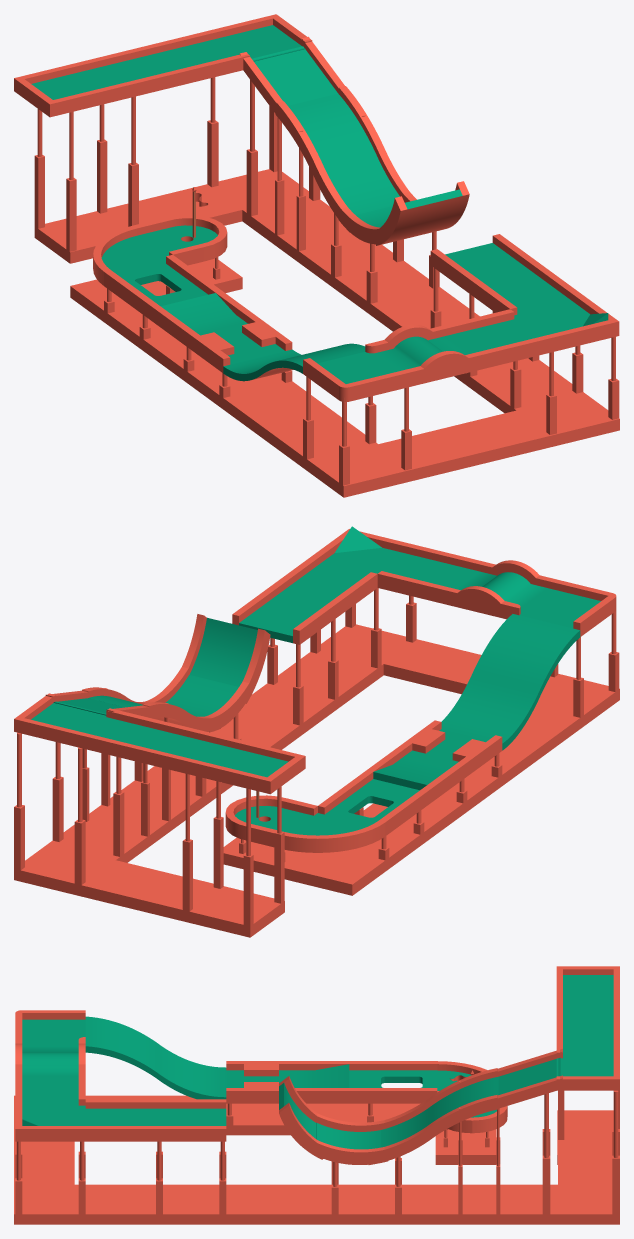
Rendered from Level8.fbx.
The picture shows the model from 3 angles, top to bottom: view 1: azimuth 30°, elevation 25°; view 2: azimuth 150°, elevation 25°; view 3: azimuth 270°, elevation 25°; orthographic projection. The views are drawn at different scales.
Parts seen in each view (by area): view 1: open_block (×23), straight (×5), detail_supports (×7), slope_smoothC_long, valley (×2), slope_straightD, straight_bump, corner_square, end, corner_hill, straight_narrowSquare, straight_slope (+5 smaller); view 2: open_block (×22), straight (×5), detail_supports (×7), slope_center_smoothD_long, valley (×2), straight_bump, end, corner_square, straight_narrowSquare, straight_slope, corner_hill, straight_hole (+5 smaller); view 3: open_block (×18), straight (×5), detail_supports (×6), slope_center_smoothD_long, slope_smoothC_long, valley (×2), straight_slope, slope_straightD, straight_hole, corner_hill, straight_narrowSquare, corner_square (+5 smaller).
Boxes of the visible parts, x1=… form: open_block (×23): x1=34, y1=169, x2=619, y2=497; straight (×5): x1=76, y1=30, x2=578, y2=369; detail_supports (×7): x1=34, y1=77, x2=619, y2=496; slope_smoothC_long: x1=275, y1=86, x2=409, y2=232; valley (×2): x1=338, y1=181, x2=469, y2=245; slope_straightD: x1=239, y1=36, x2=344, y2=113; straight_bump: x1=372, y1=324, x2=480, y2=386; corner_square: x1=303, y1=343, x2=411, y2=401; end: x1=14, y1=61, x2=118, y2=117; corner_hill: x1=514, y1=292, x2=619, y2=352; straight_narrowSquare: x1=183, y1=313, x2=292, y2=372; straight_slope: x1=143, y1=284, x2=251, y2=343; open_block (×22): x1=14, y1=624, x2=619, y2=937; straight (×5): x1=74, y1=545, x2=483, y2=777; detail_supports (×7): x1=14, y1=588, x2=619, y2=937; slope_center_smoothD_long: x1=441, y1=614, x2=580, y2=750; valley (×2): x1=145, y1=614, x2=270, y2=732; straight_bump: x1=445, y1=560, x2=551, y2=619; end: x1=203, y1=739, x2=305, y2=794; corner_square: x1=512, y1=578, x2=616, y2=636; straight_narrowSquare: x1=396, y1=720, x2=502, y2=778; straight_slope: x1=357, y1=749, x2=463, y2=807; corner_hill: x1=310, y1=526, x2=416, y2=577; straight_hole: x1=318, y1=777, x2=424, y2=835; open_block (×18): x1=14, y1=1103, x2=619, y2=1224; straight (×5): x1=15, y1=993, x2=619, y2=1141; detail_supports (×6): x1=15, y1=1081, x2=619, y2=1224; slope_center_smoothD_long: x1=85, y1=1016, x2=226, y2=1099; slope_smoothC_long: x1=366, y1=1068, x2=499, y2=1164; valley (×2): x1=279, y1=1076, x2=387, y2=1164; straight_slope: x1=296, y1=1061, x2=366, y2=1103; slope_straightD: x1=473, y1=1048, x2=562, y2=1116; straight_hole: x1=367, y1=1061, x2=437, y2=1103; corner_hill: x1=15, y1=1099, x2=85, y2=1141; straight_narrowSquare: x1=226, y1=1061, x2=296, y2=1103; corner_square: x1=15, y1=1010, x2=85, y2=1046.
Size of the model in its own units: 40 by 22.95 by 86.2.
